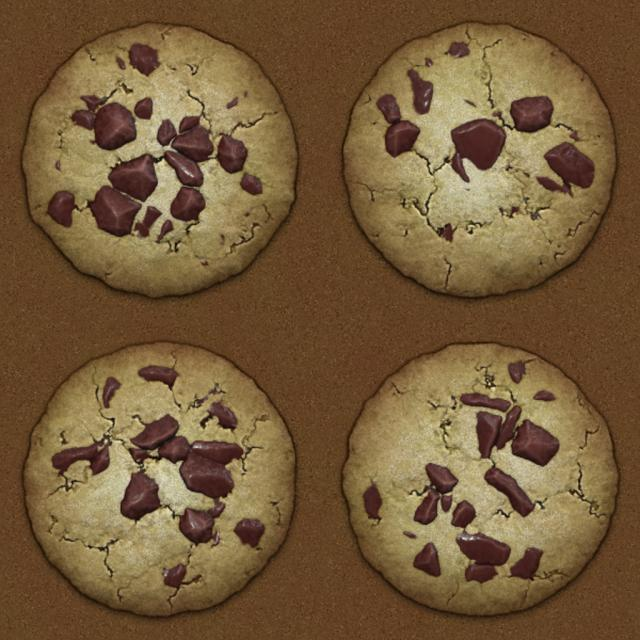Cookie: (21, 17, 299, 301), (346, 17, 624, 301), (23, 336, 301, 618), (345, 345, 623, 620)
